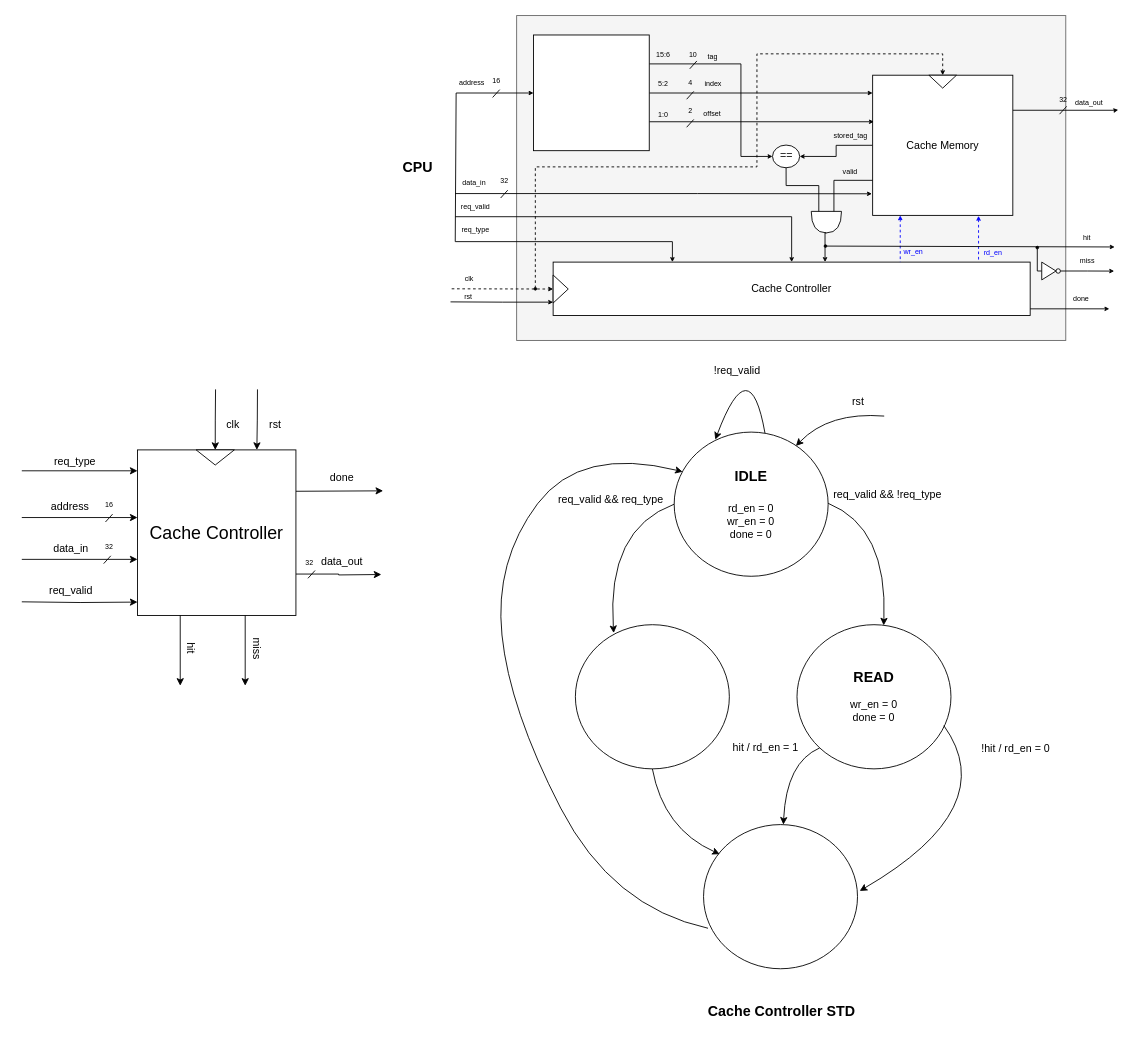
This 1138x1040 diagram has some shape labels left out. The centre of each missing label's shape, as x and y in pixels:
"Cache Decoder" goes at point (591, 92).
"DONE rd_en = 0 wr_en = 0 done = 1" goes at point (780, 896).
"Write rd_en = 0 wr_en = 1 done = 0" goes at point (651, 696).
